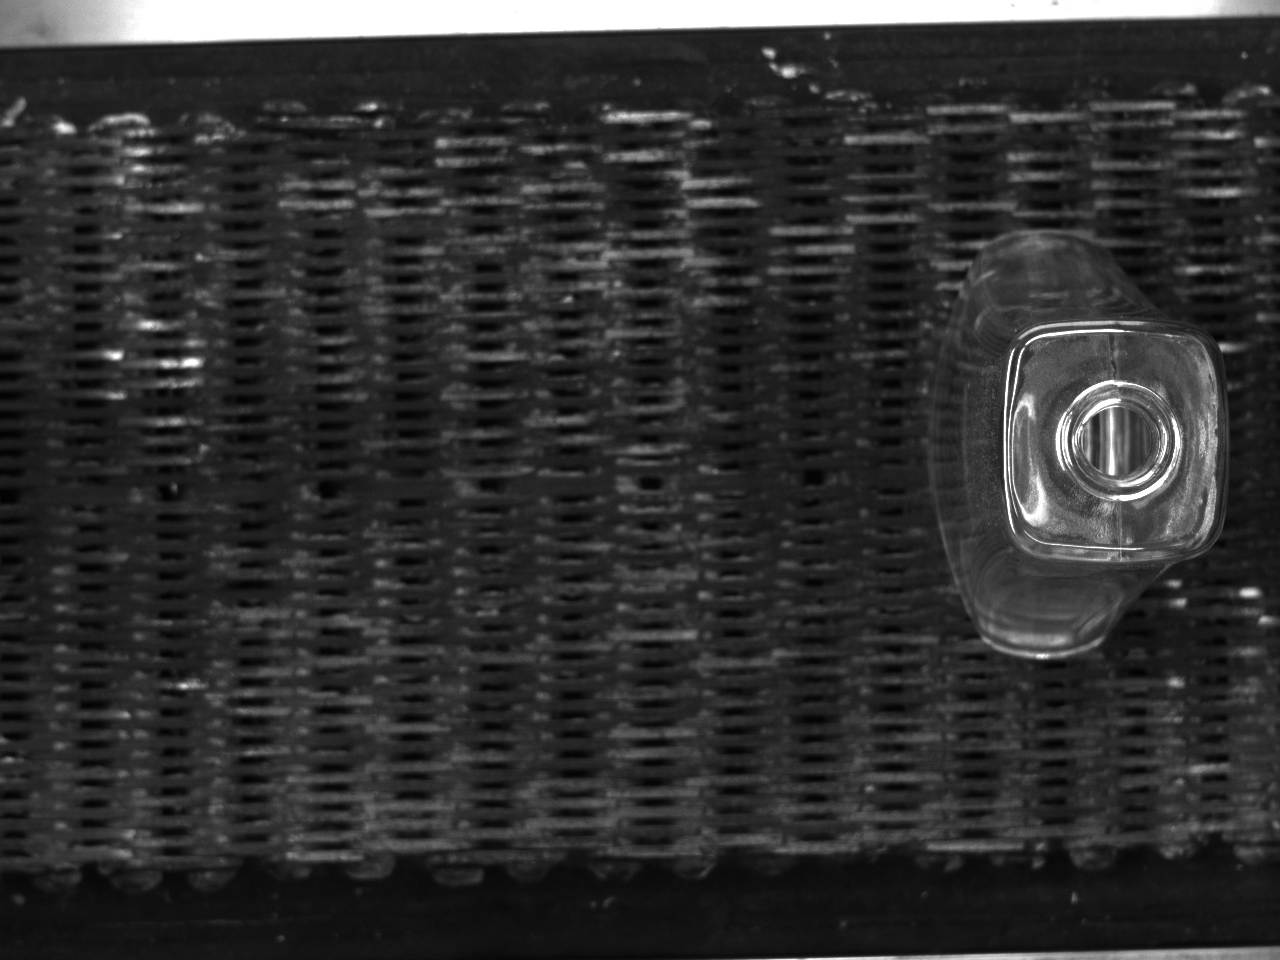bottleneck: (1059, 380, 1183, 501)
